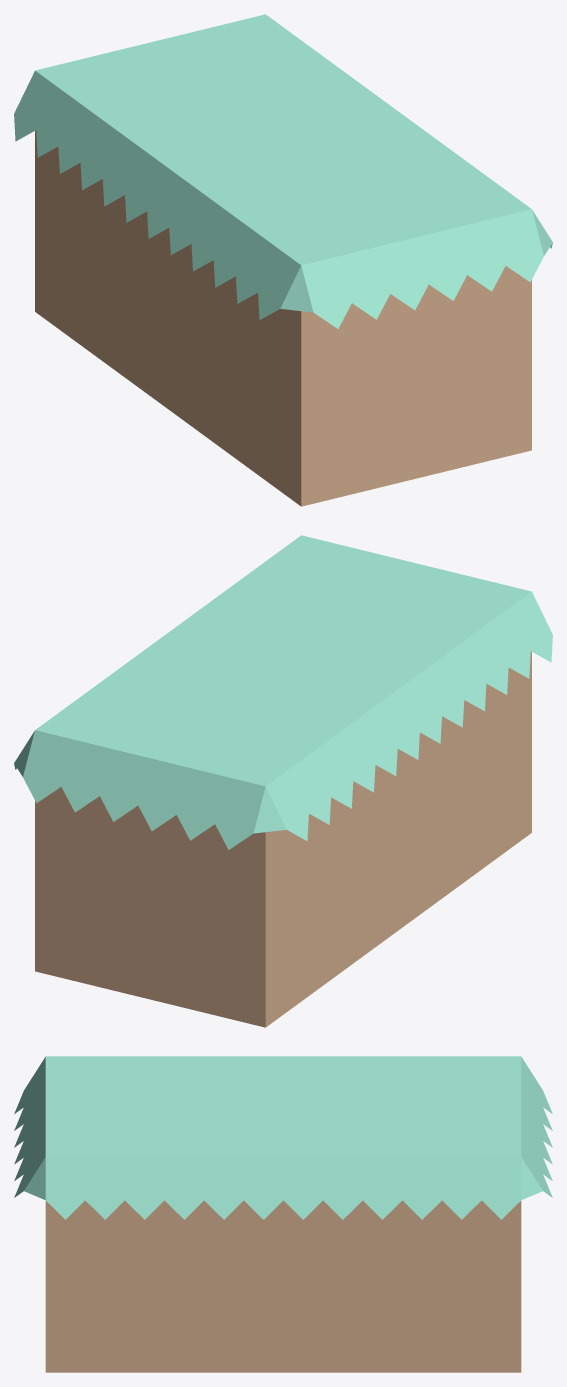
File: plank.glb
3 renders of one model, top to bottom at view 1: azimuth 30°, elevation 25°; view 2: azimuth 150°, elevation 25°; view 3: azimuth 270°, elevation 25°, orthographic. The views are drawn at different scales.
Visible parts, largest first — view 1: blockLong; view 2: blockLong; view 3: blockLong.
Part boxes in pixels (x1,y1,x2,y2): blockLong: (14, 14, 552, 506); blockLong: (14, 535, 552, 1027); blockLong: (14, 1056, 552, 1372).
Bounding box in the file's own units: 12.66 × 10 × 22.66.
